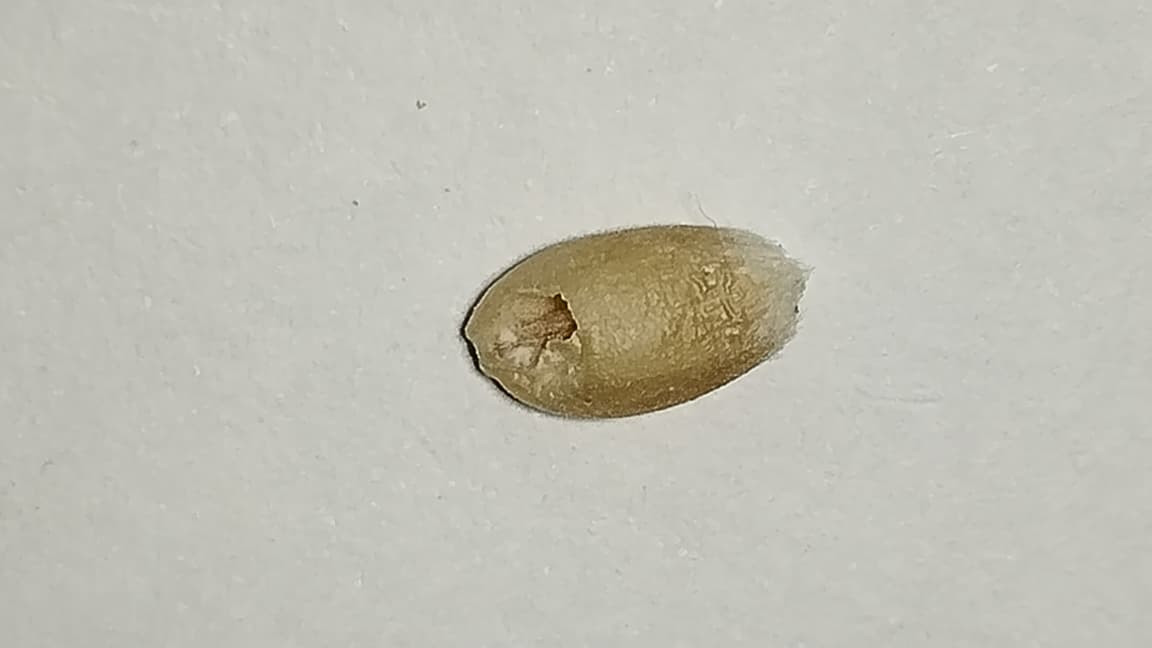damage: (468, 226, 806, 416)
insectdamage: (465, 275, 580, 418)
